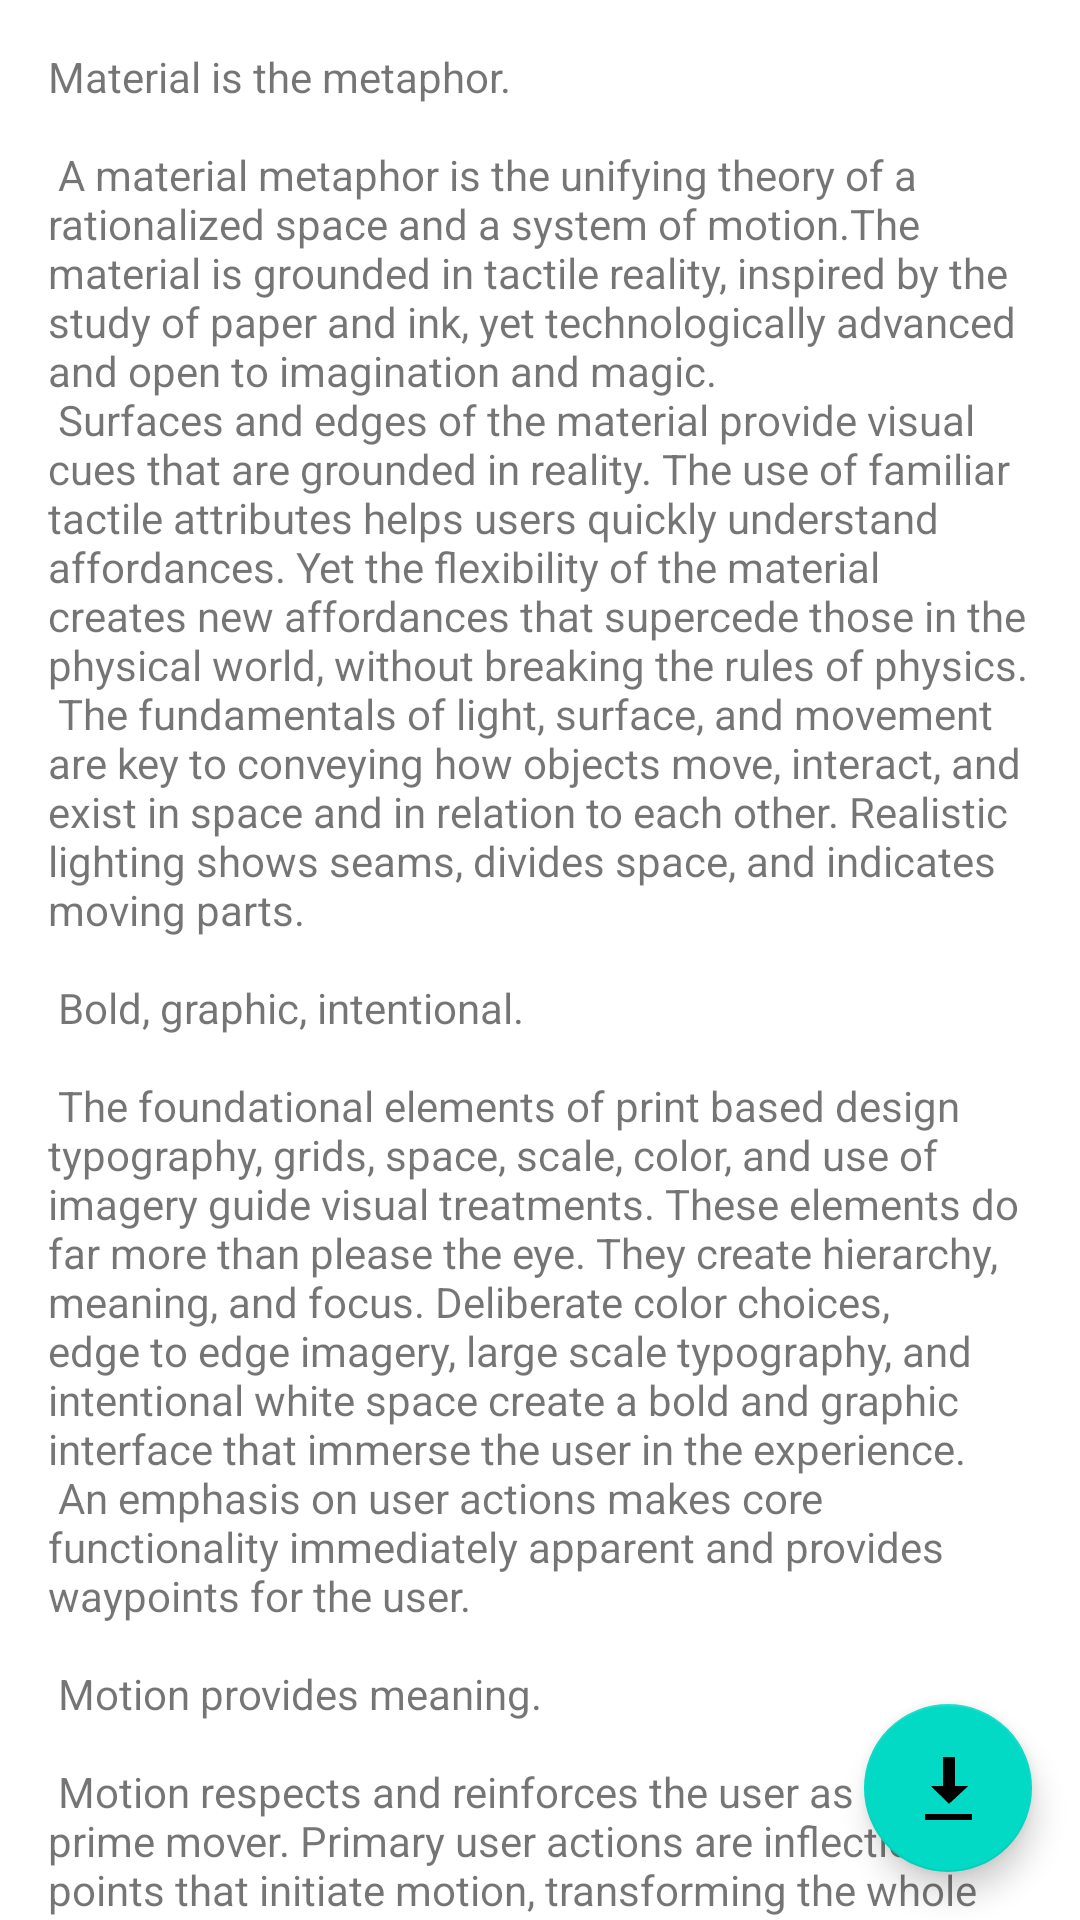

Where icons sit on this 1080 x 1920 app screen, as (x1=x1, y1=y1, x2=x2, y2=y2):
download: (x1=864, y1=1704, x2=1032, y2=1872)
